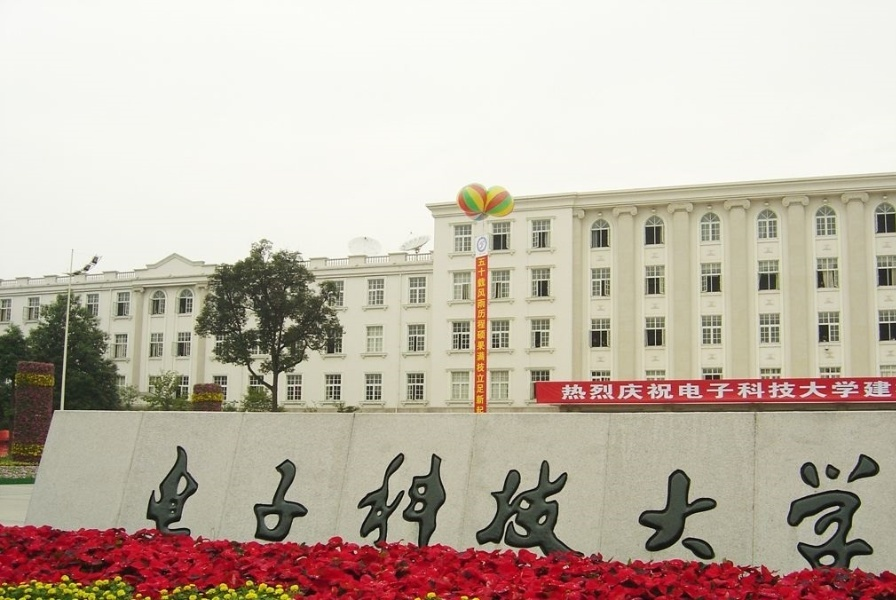text: (865, 443, 881, 576), (161, 443, 176, 576), (177, 443, 192, 576), (193, 443, 208, 576), (209, 443, 224, 576), (225, 443, 240, 576), (241, 443, 256, 576), (257, 443, 272, 576), (273, 443, 288, 576), (289, 443, 304, 576), (305, 443, 320, 576), (321, 443, 336, 576), (337, 443, 352, 576), (353, 443, 368, 576), (369, 443, 384, 576), (385, 443, 400, 576), (401, 443, 416, 576), (417, 443, 432, 576), (433, 443, 448, 576), (449, 443, 464, 576), (465, 443, 480, 576), (481, 443, 496, 576), (497, 443, 512, 576), (513, 443, 528, 576), (529, 443, 544, 576), (545, 443, 560, 576), (561, 443, 576, 576), (577, 443, 592, 576), (593, 443, 608, 576), (609, 443, 624, 576), (625, 443, 640, 576), (641, 443, 656, 576), (657, 443, 672, 576), (673, 443, 688, 576), (689, 443, 704, 576), (705, 443, 720, 576), (721, 443, 736, 576), (737, 443, 752, 576), (753, 443, 768, 576), (769, 443, 784, 576), (785, 443, 800, 576), (801, 443, 816, 576), (817, 443, 832, 576), (833, 443, 848, 576), (849, 443, 864, 576), (150, 443, 160, 576), (481, 257, 489, 415), (561, 380, 576, 402), (577, 380, 592, 402), (593, 380, 608, 402), (609, 380, 624, 402), (625, 380, 640, 402), (641, 380, 656, 402), (657, 380, 672, 402), (673, 380, 688, 402), (689, 380, 704, 402), (705, 380, 720, 402), (721, 380, 736, 402), (737, 380, 752, 402), (753, 380, 768, 402), (769, 380, 784, 402), (785, 380, 800, 402), (801, 380, 816, 402), (817, 380, 832, 402), (833, 380, 848, 402), (849, 380, 864, 402), (865, 380, 880, 402), (478, 257, 480, 415), (881, 380, 894, 402), (559, 380, 560, 402)
